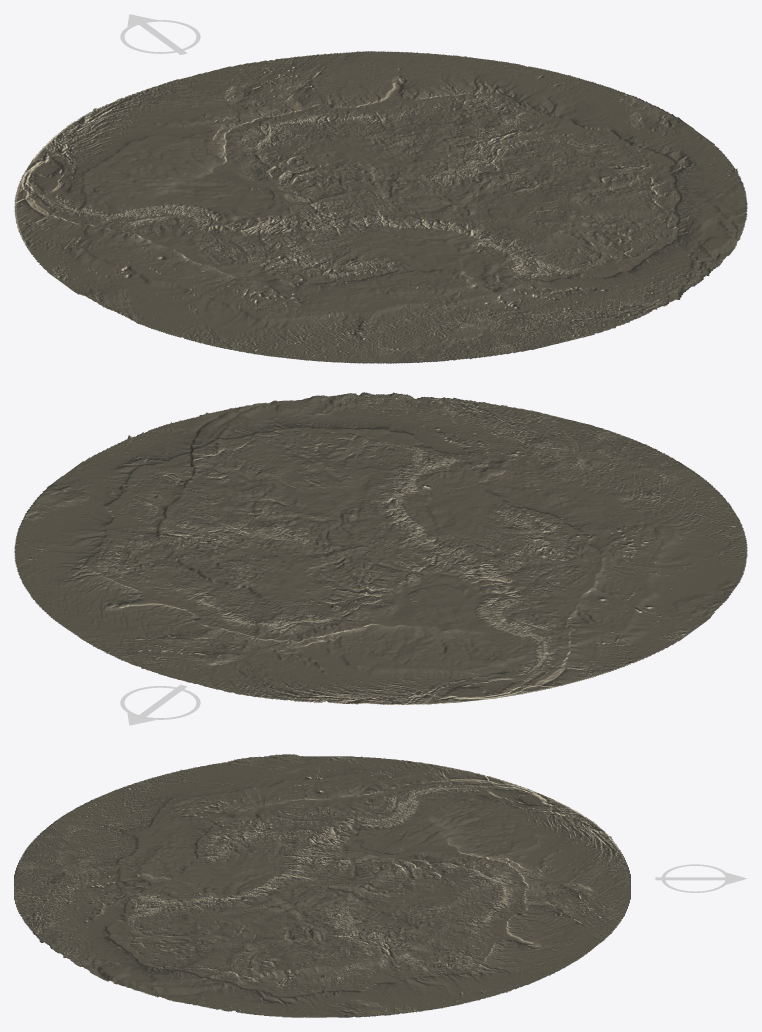
File: antarctica-bedmap3.glb
3 renders of one model, top to bottom at view 1: azimuth 30°, elevation 25°; view 2: azimuth 150°, elevation 25°; view 3: azimuth 270°, elevation 25°, orthographic. The views are drawn at different scales.
Visible parts, largest first — view 1: Antarctica_Bedmap3_Whole_Terrain, ODS001_Greenwich_North; view 2: Antarctica_Bedmap3_Whole_Terrain, ODS001_Greenwich_North; view 3: Antarctica_Bedmap3_Whole_Terrain, ODS001_Greenwich_North.
Part boxes in pixels (x1,y1,x2,y2): Antarctica_Bedmap3_Whole_Terrain: (14,51,747,363); ODS001_Greenwich_North: (120,14,200,54); Antarctica_Bedmap3_Whole_Terrain: (14,392,747,704); ODS001_Greenwich_North: (120,684,200,725); Antarctica_Bedmap3_Whole_Terrain: (14,754,630,1017); ODS001_Greenwich_North: (655,864,747,892).
Bounding box in the file's own units: 3.2 × 0.0569 × 3.81.
Materials: 2 (1 with a texture image).
